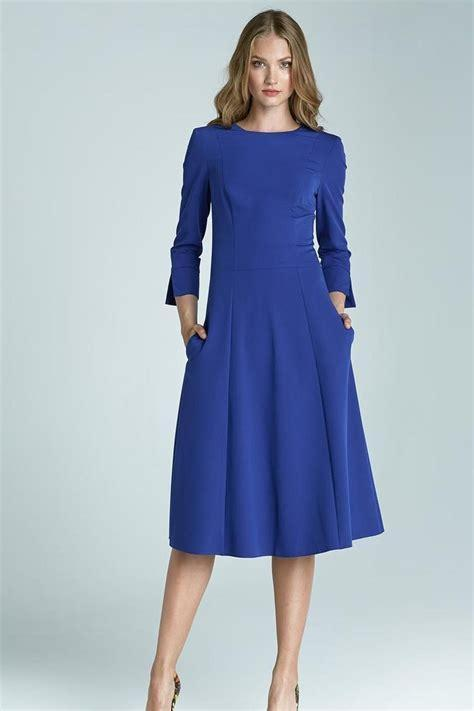dress: (167, 114, 386, 557)
